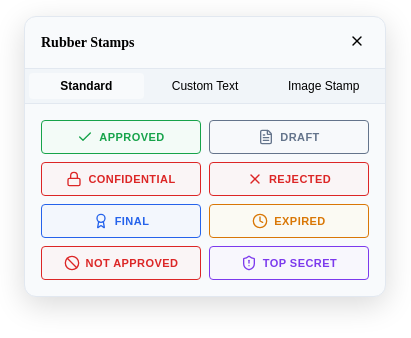
Test case: Phase 12 UI Integration: Annotations, Signatures, and Forms › Task 12.3: StampsPopover › switches to custom text tab and creates custom stamp
Later steps or results of the test are not shown.
Click the button with test id "tab-stamp-custom". click: (205, 86)
box: x1=148 y1=73 x2=262 y2=99
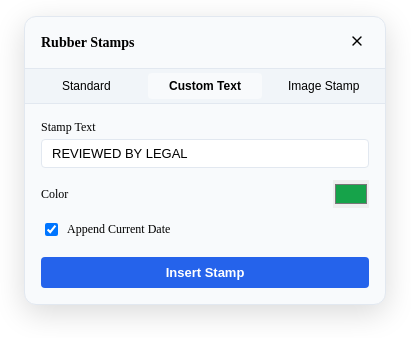
Now the field with test id "input-custom-stamp-text" is shown, box x1=41 y1=139 x2=369 y2=168
